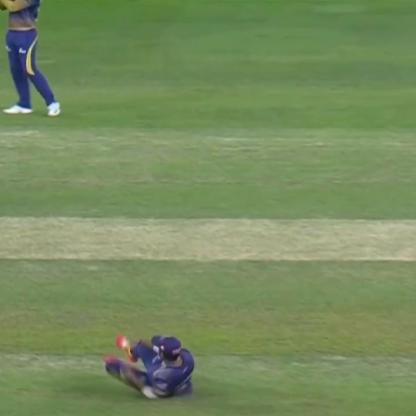ball: (116, 336, 134, 352)
